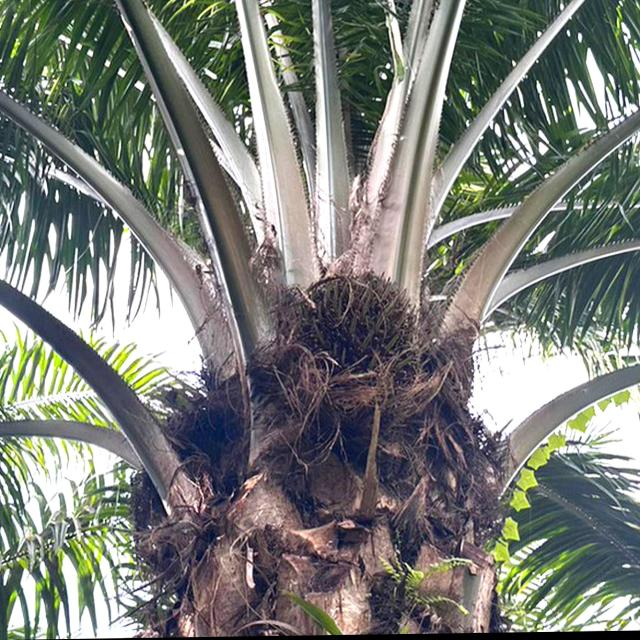unripe: (279, 264, 432, 400)
